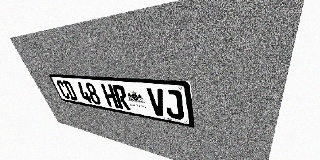4: (75, 82, 93, 103)
8: (84, 82, 102, 105)
C: (55, 80, 71, 100)
D: (62, 80, 79, 101)
H: (100, 84, 119, 108)
J: (163, 89, 184, 120)
R: (112, 85, 131, 110)
V: (146, 88, 167, 117)
